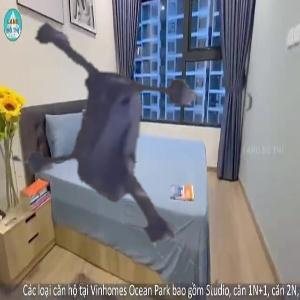drone: (3, 21, 275, 293)
